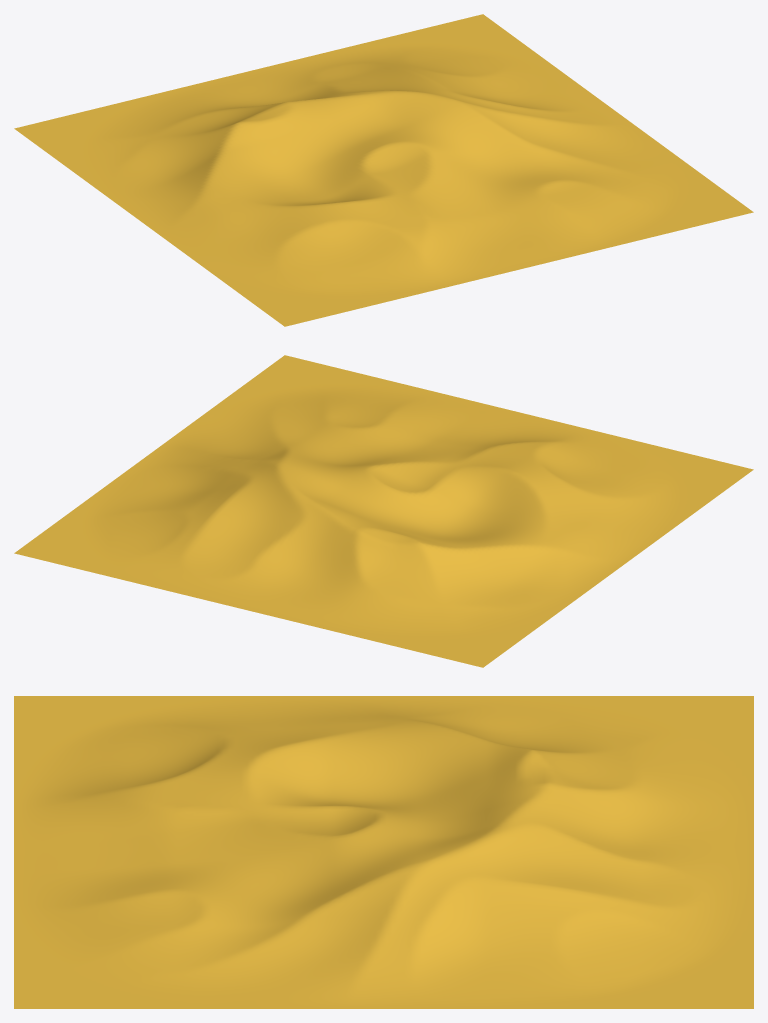
Rendered from LANDSCAPE03.fbx.
The picture shows the model from 3 angles, top to bottom: view 1: azimuth 30°, elevation 25°; view 2: azimuth 150°, elevation 25°; view 3: azimuth 270°, elevation 25°; orthographic projection. The views are drawn at different scales.
Visible parts, largest first — view 1: Landscape03; view 2: Landscape03; view 3: Landscape03.
Boxes of the visible parts, x1=… form: Landscape03: x1=14, y1=14, x2=753, y2=326; Landscape03: x1=14, y1=355, x2=753, y2=667; Landscape03: x1=14, y1=696, x2=753, y2=1008.
Bounding box in the file's own units: 2035 × 156 × 2035.
